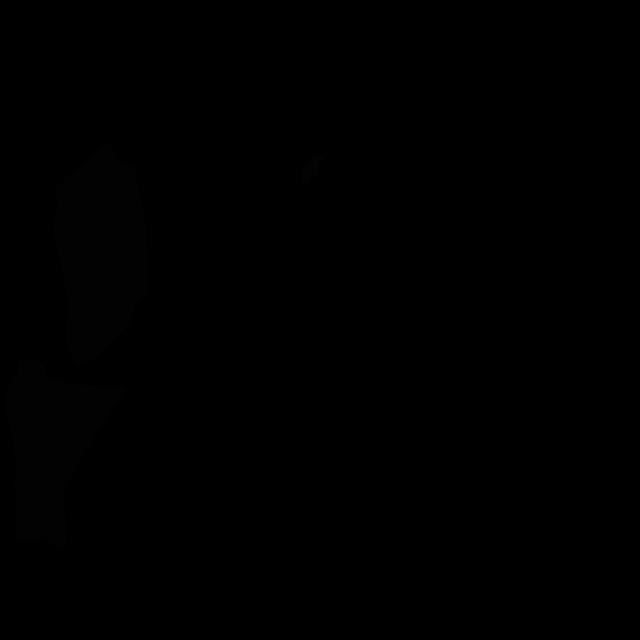cardboard: (6, 360, 128, 550), (53, 140, 149, 368)
metal: (302, 154, 325, 183)
